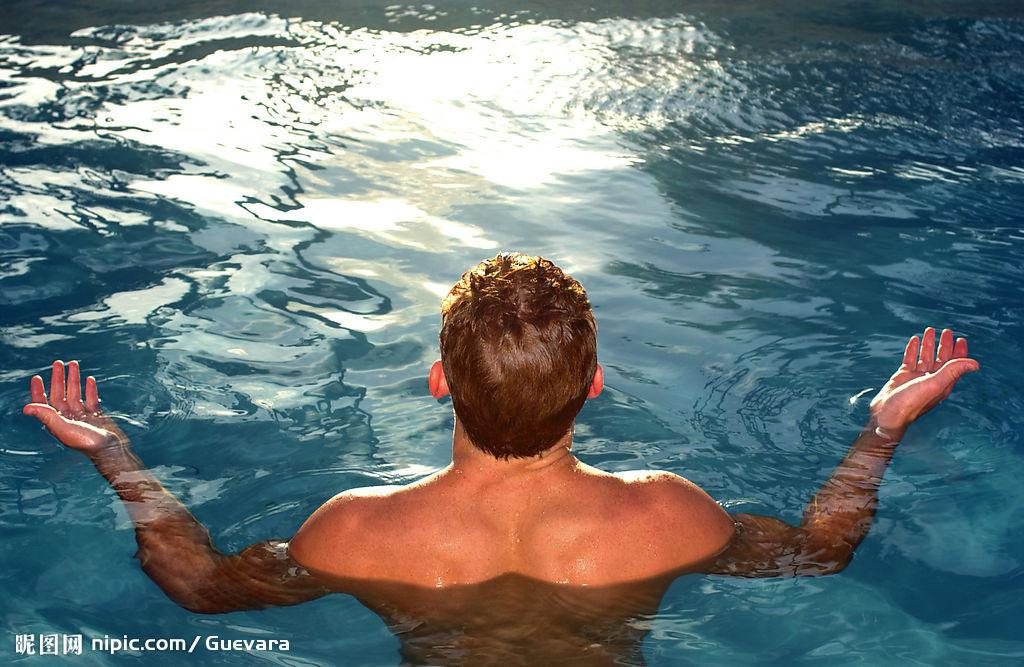human: (34, 244, 980, 666)
